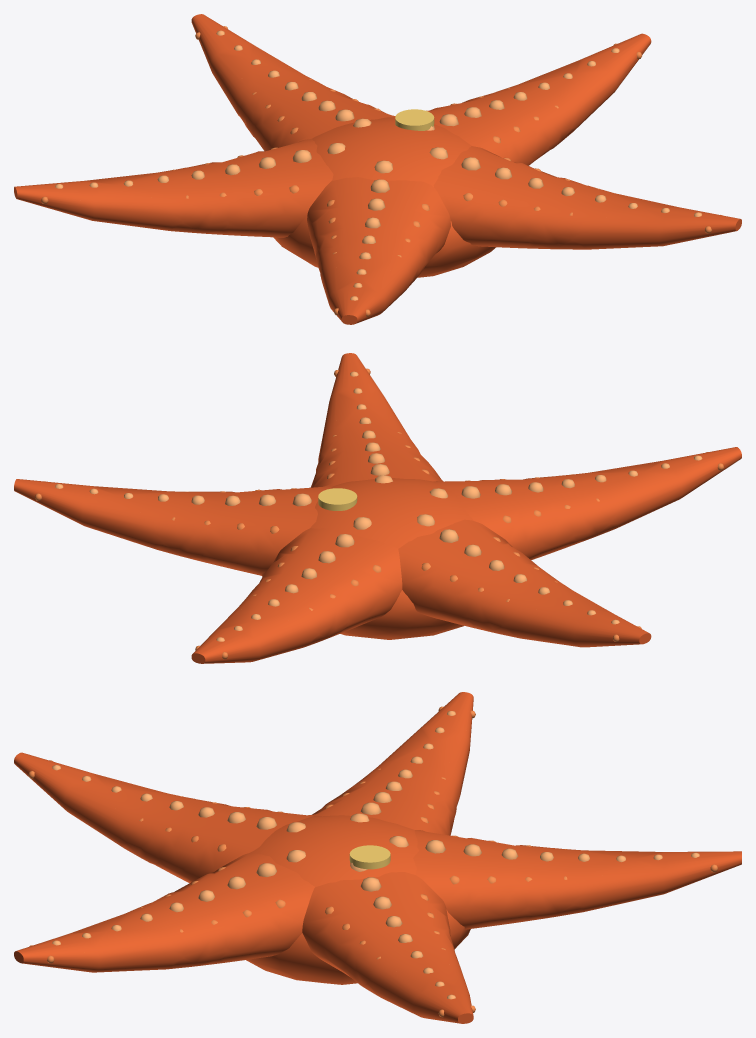
The model's file is seastar.glb.
3 views of the same model, one above another, from view 1: azimuth 30°, elevation 25°; view 2: azimuth 150°, elevation 25°; view 3: azimuth 270°, elevation 25° (orthographic). The views are drawn at different scales.
Parts seen in each view (by area): view 1: Body, Spines, Bumps, Madreporite; view 2: Body, Spines, Bumps, Madreporite; view 3: Body, Spines, Bumps, Madreporite.
Boxes of the visible parts, x1,y1,x2,y2 form: Body: (14,14,741,324); Spines: (55,30,702,300); Bumps: (41,26,721,316); Madreporite: (395,109,434,130); Body: (14,353,741,663); Spines: (55,371,702,641); Bumps: (35,368,724,659); Madreporite: (318,488,357,510); Body: (14,692,741,1023); Spines: (52,711,699,999); Bumps: (28,706,717,1017); Madreporite: (349,845,390,869).
Bounding box in the file's own units: 0.0823 × 0.0151 × 0.0783.
